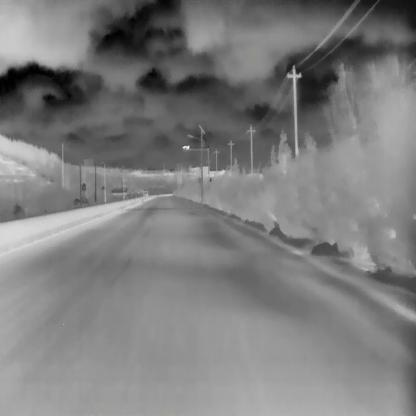truck: (142, 188, 148, 196)
